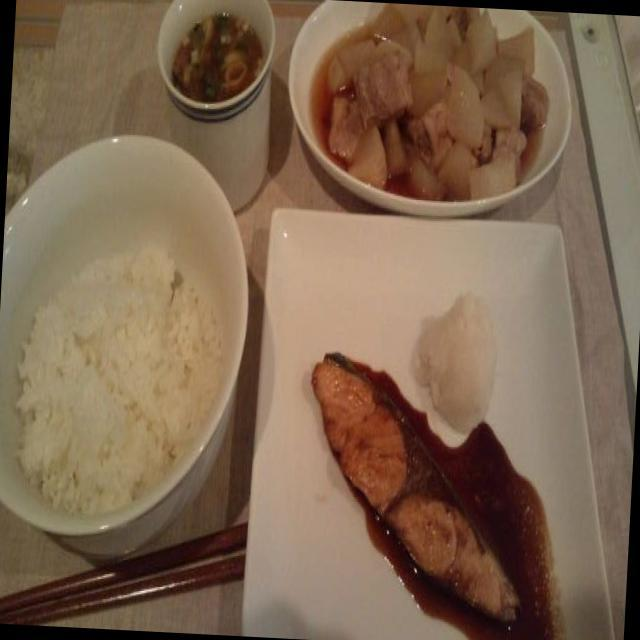Rice: (4, 241, 220, 530)
